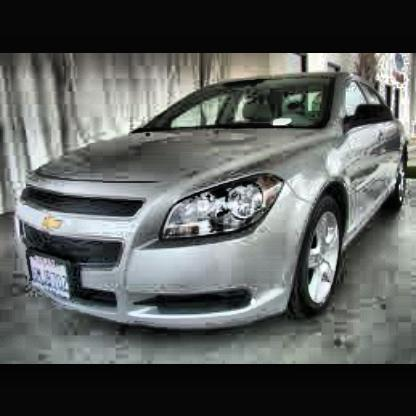Chevrolet Malibu Hybrid Sedan 2010: (17, 73, 412, 334)
